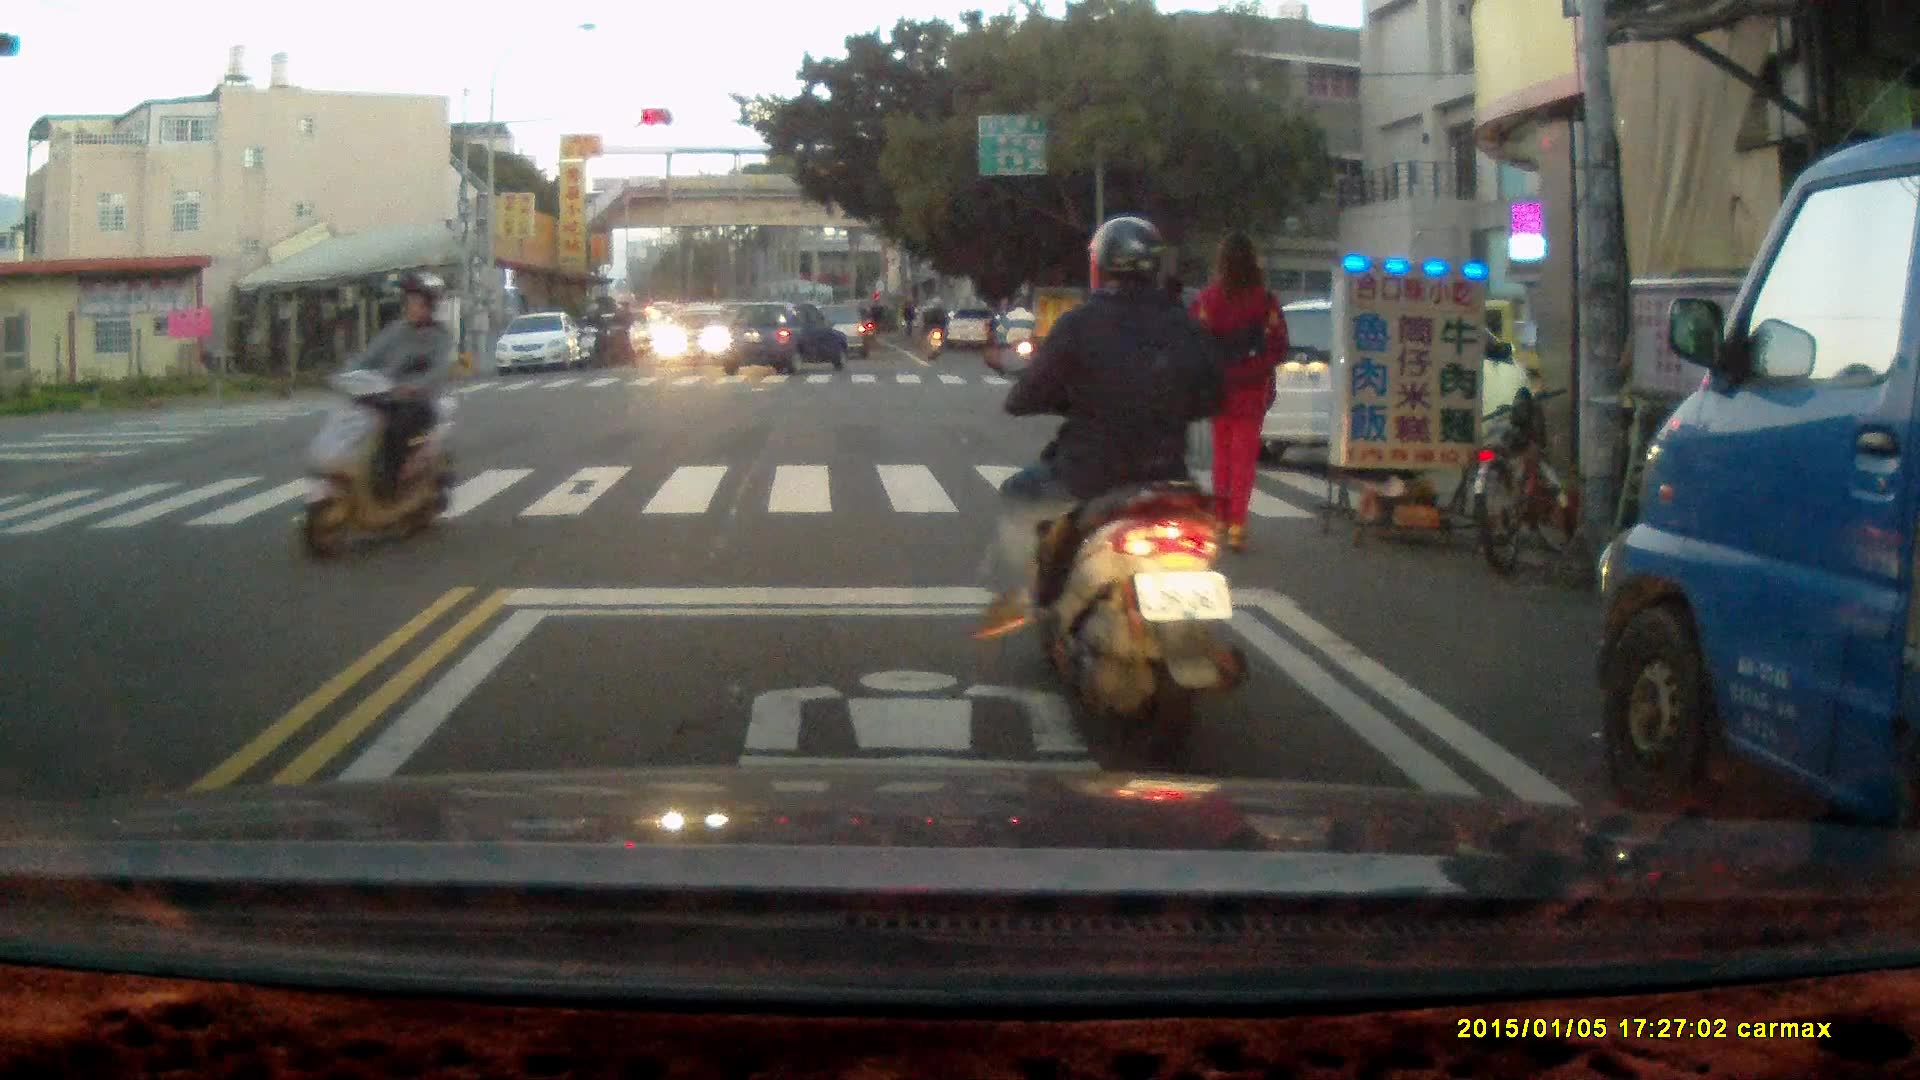pedestrian: (1183, 227, 1290, 552)
rider: (977, 211, 1252, 765), (288, 272, 452, 564), (993, 293, 1041, 377), (575, 302, 607, 370), (919, 292, 947, 360), (602, 301, 632, 364)
vehicle: (1598, 132, 1920, 887), (1233, 296, 1533, 459), (717, 302, 849, 381), (498, 313, 586, 377), (800, 302, 877, 364)
